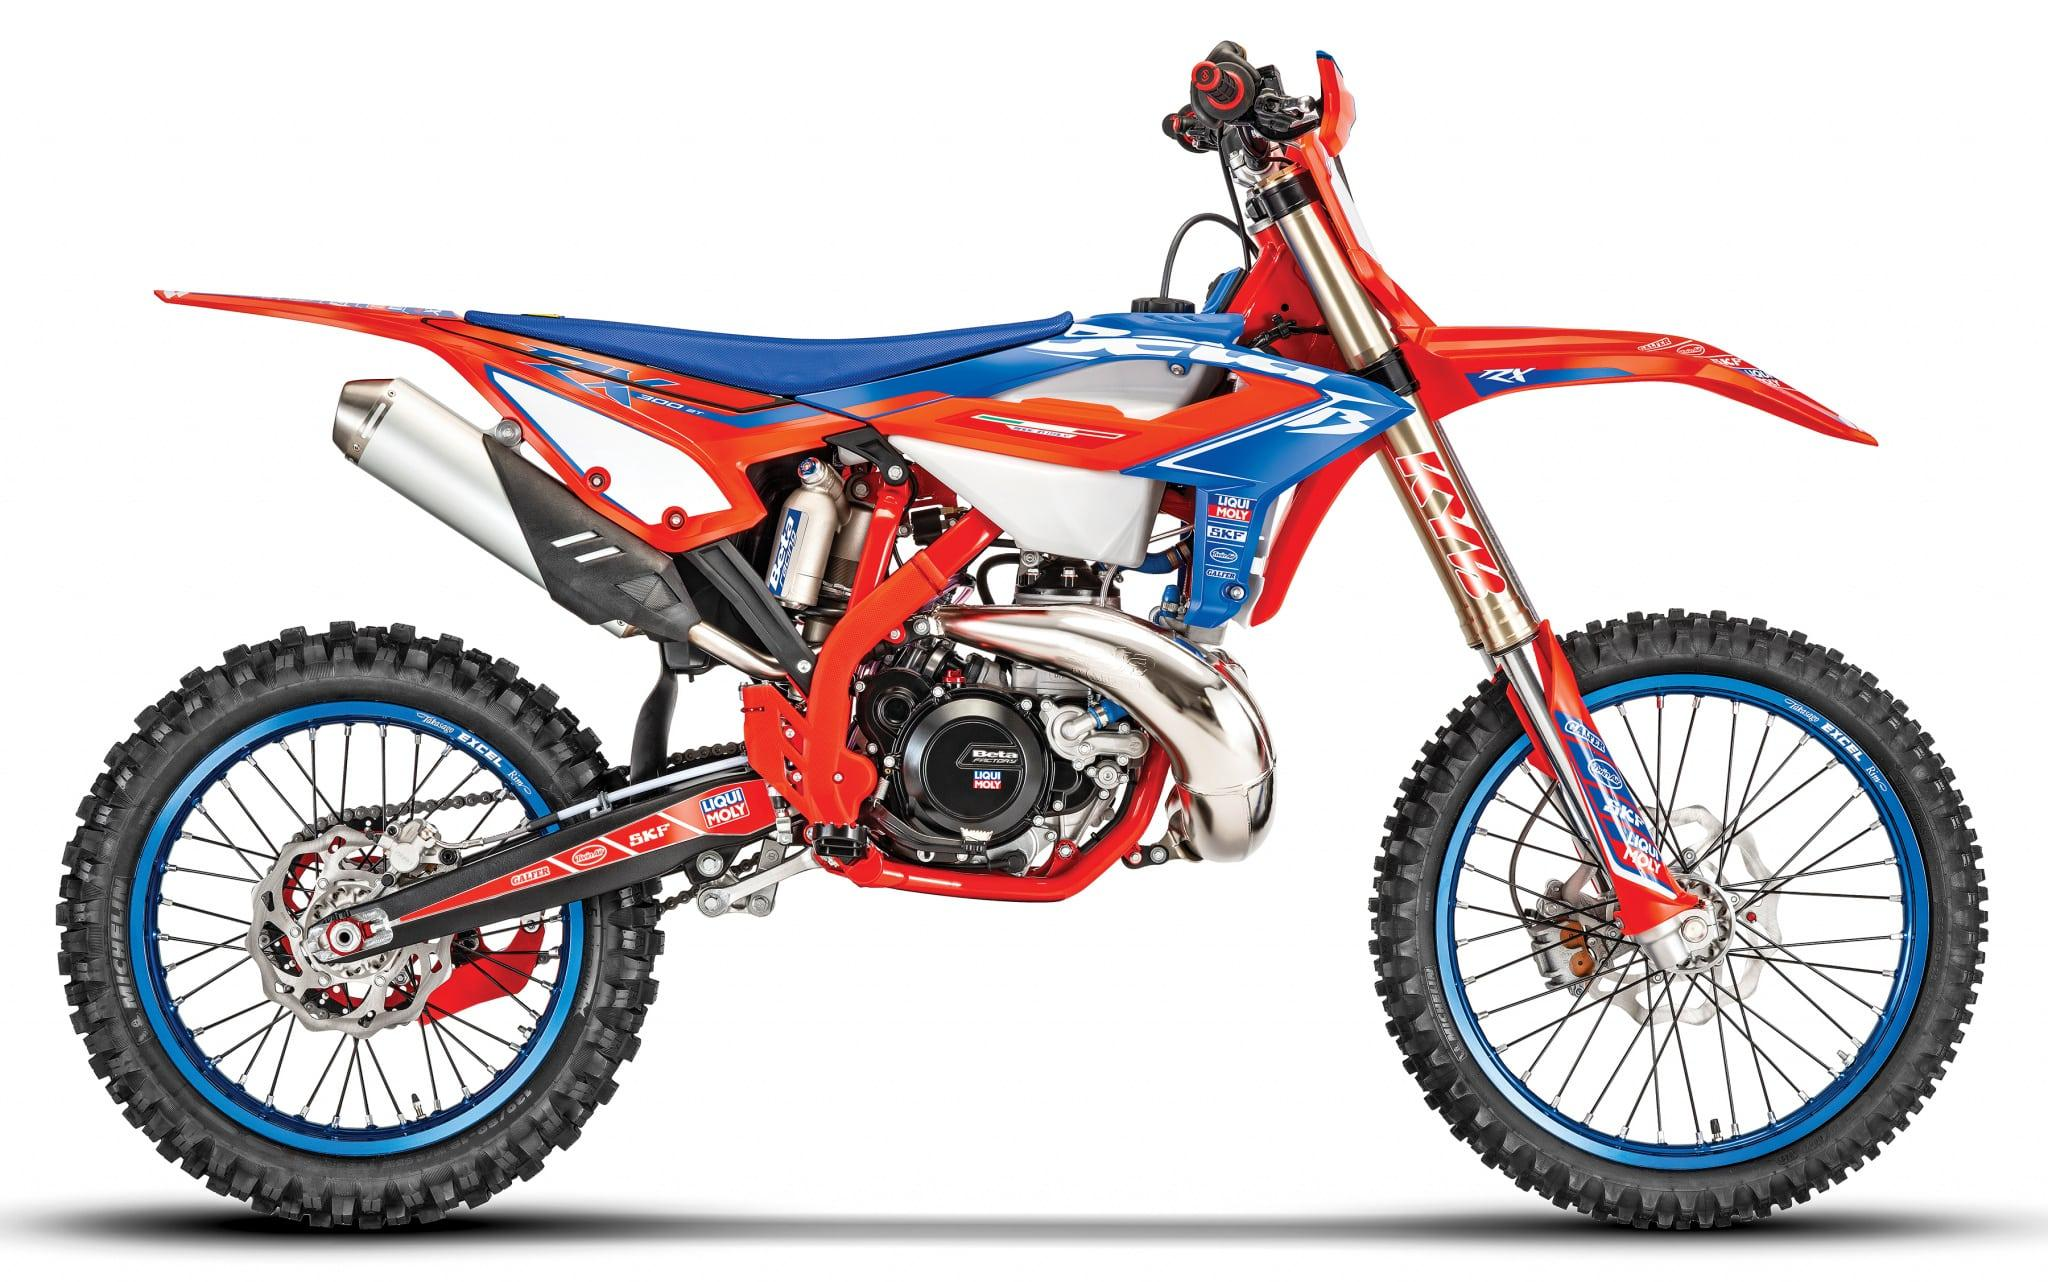motorcycle: (58, 32, 1999, 1273)
